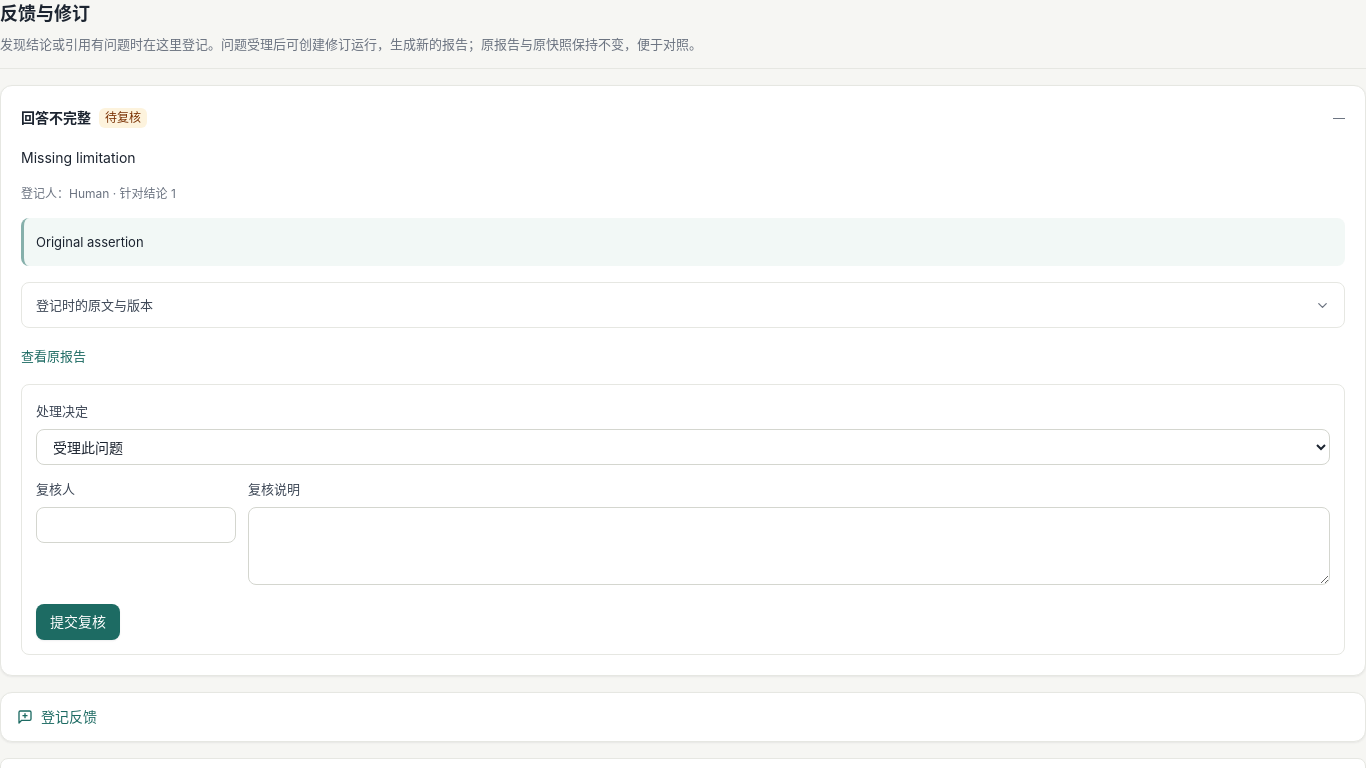
Test case: refreshes stale review revisions without silently accepting a different decision
The width and height of the screenshot is (1366, 768).
Expected: the text "待复核" is shown, [99,108,147,128]
Type "Reviewer" into the field labelled "复核人" at (136, 525), box [36,507,236,543]
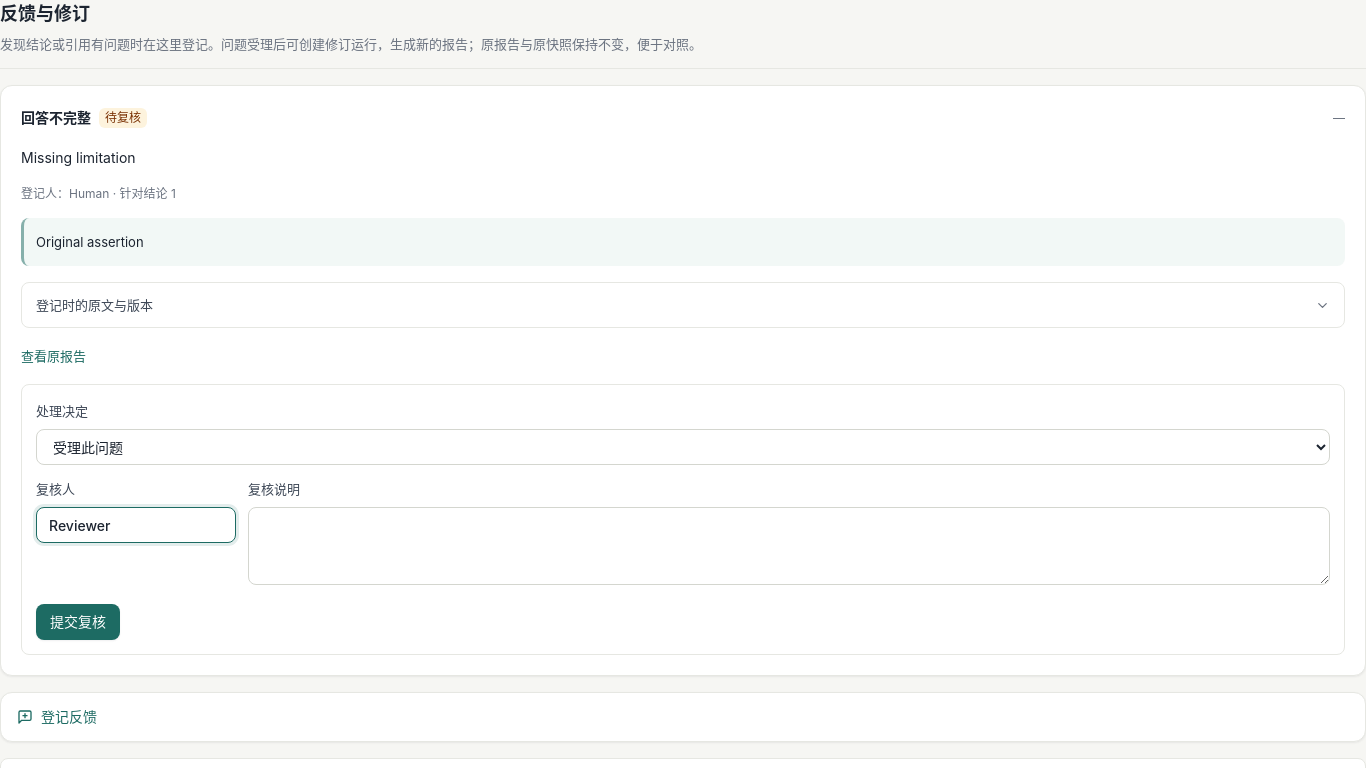
Type "Confirmed" into the text box labelled "复核说明" at (789, 546), box [248,507,1330,585]
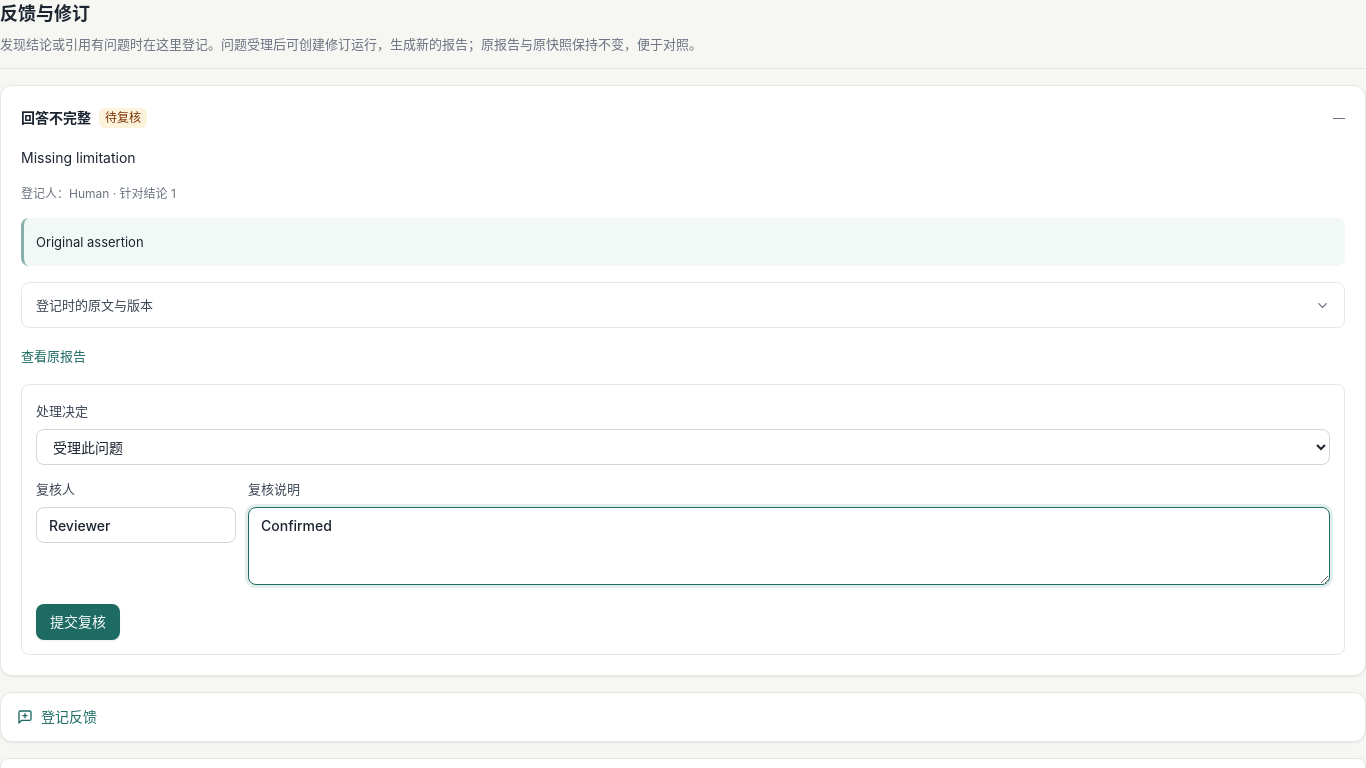
Click the button "提交复核" at (78, 622), box [36,604,120,640]
(page scrolled)
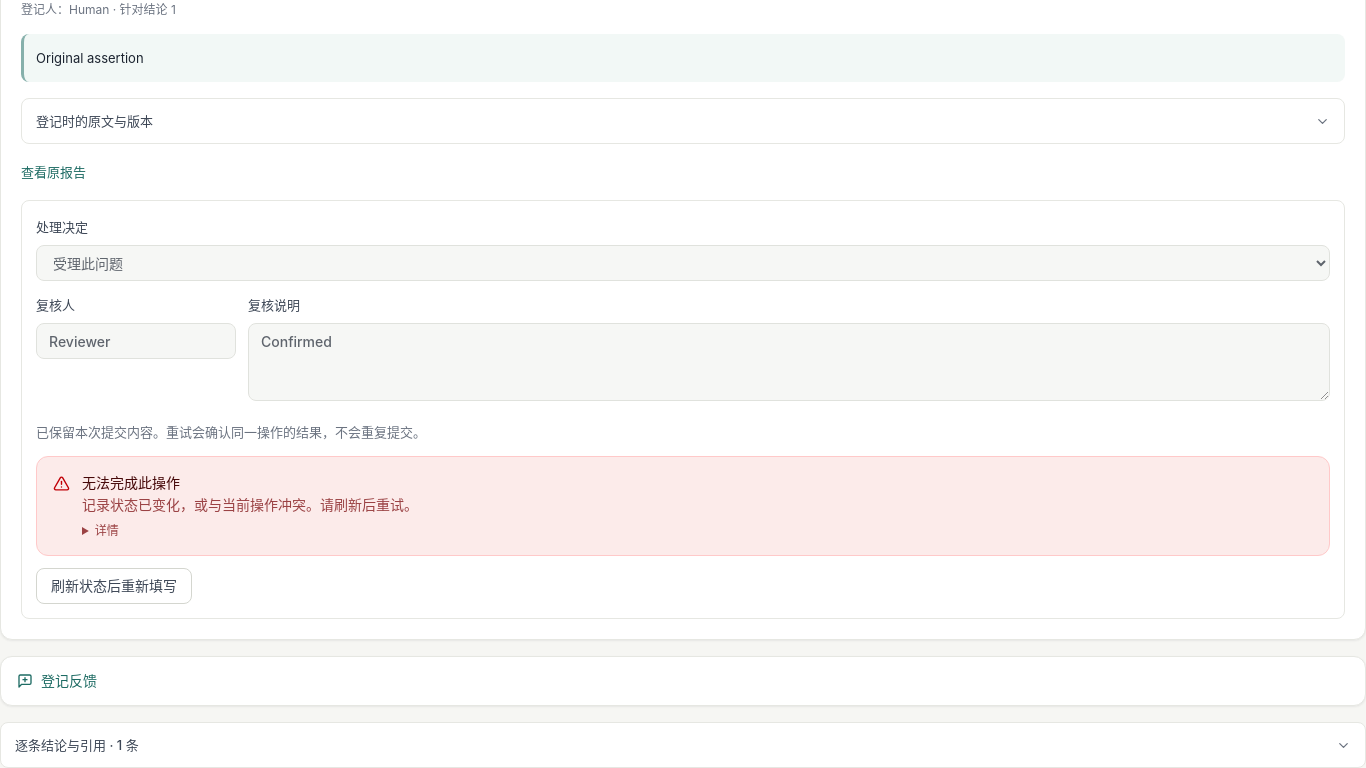
Click the button "刷新状态后重新填写" at (114, 586), box [36,568,192,604]
(page scrolled)
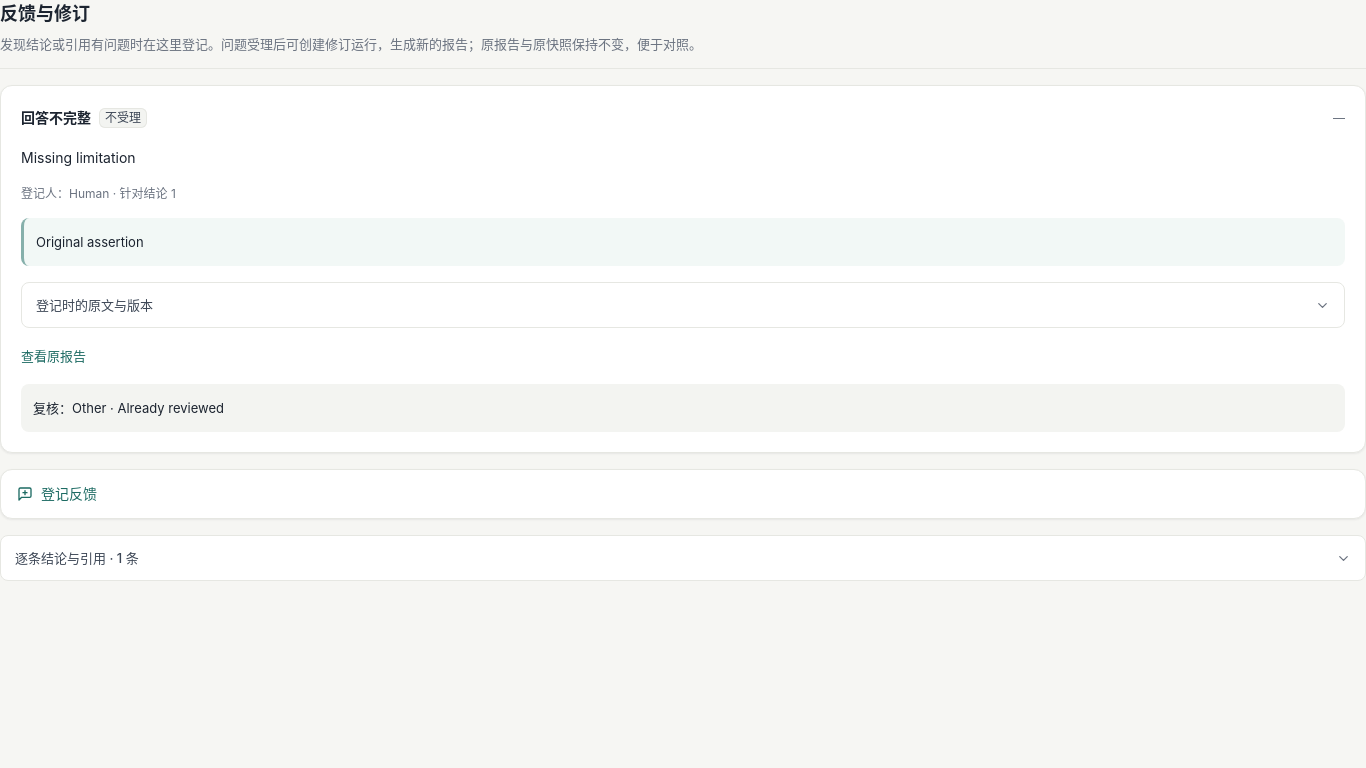
Expected: the text "不受理" is shown, [99,108,147,128]
